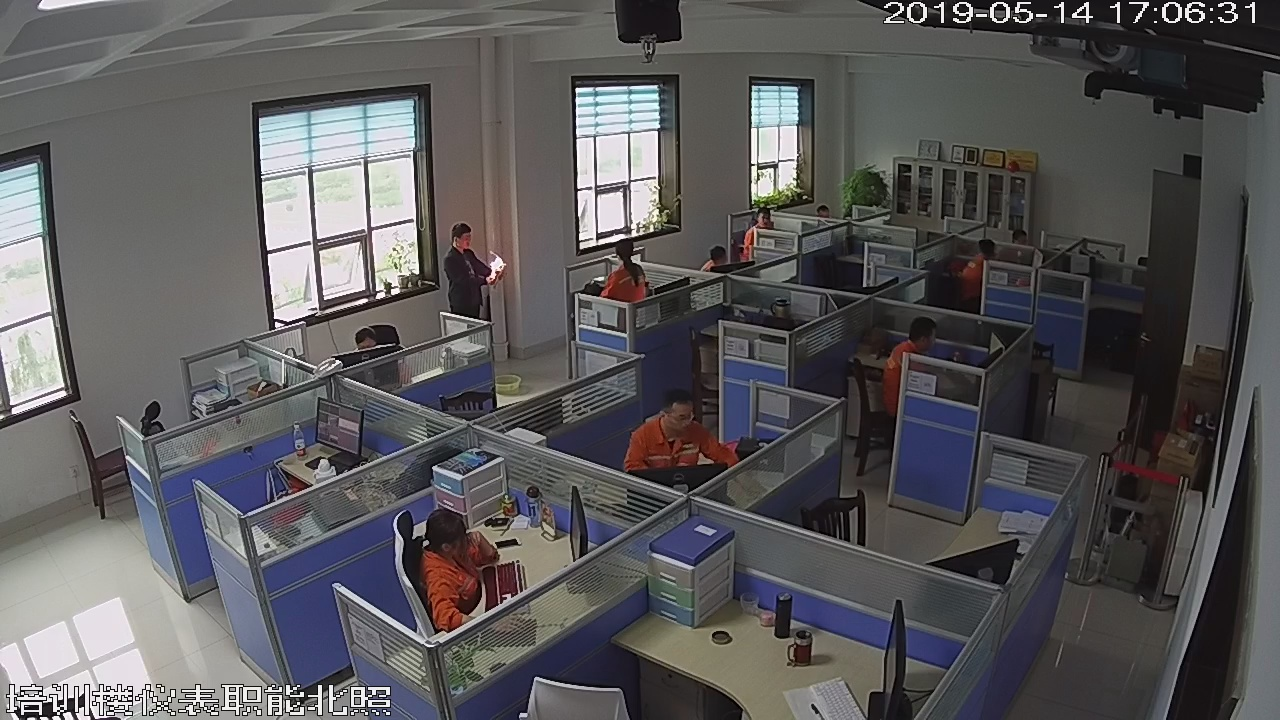fire: (483, 251, 504, 286)
